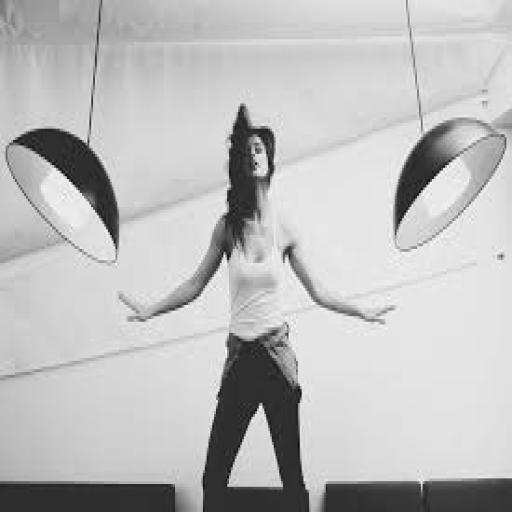dancing: (116, 101, 398, 509)
